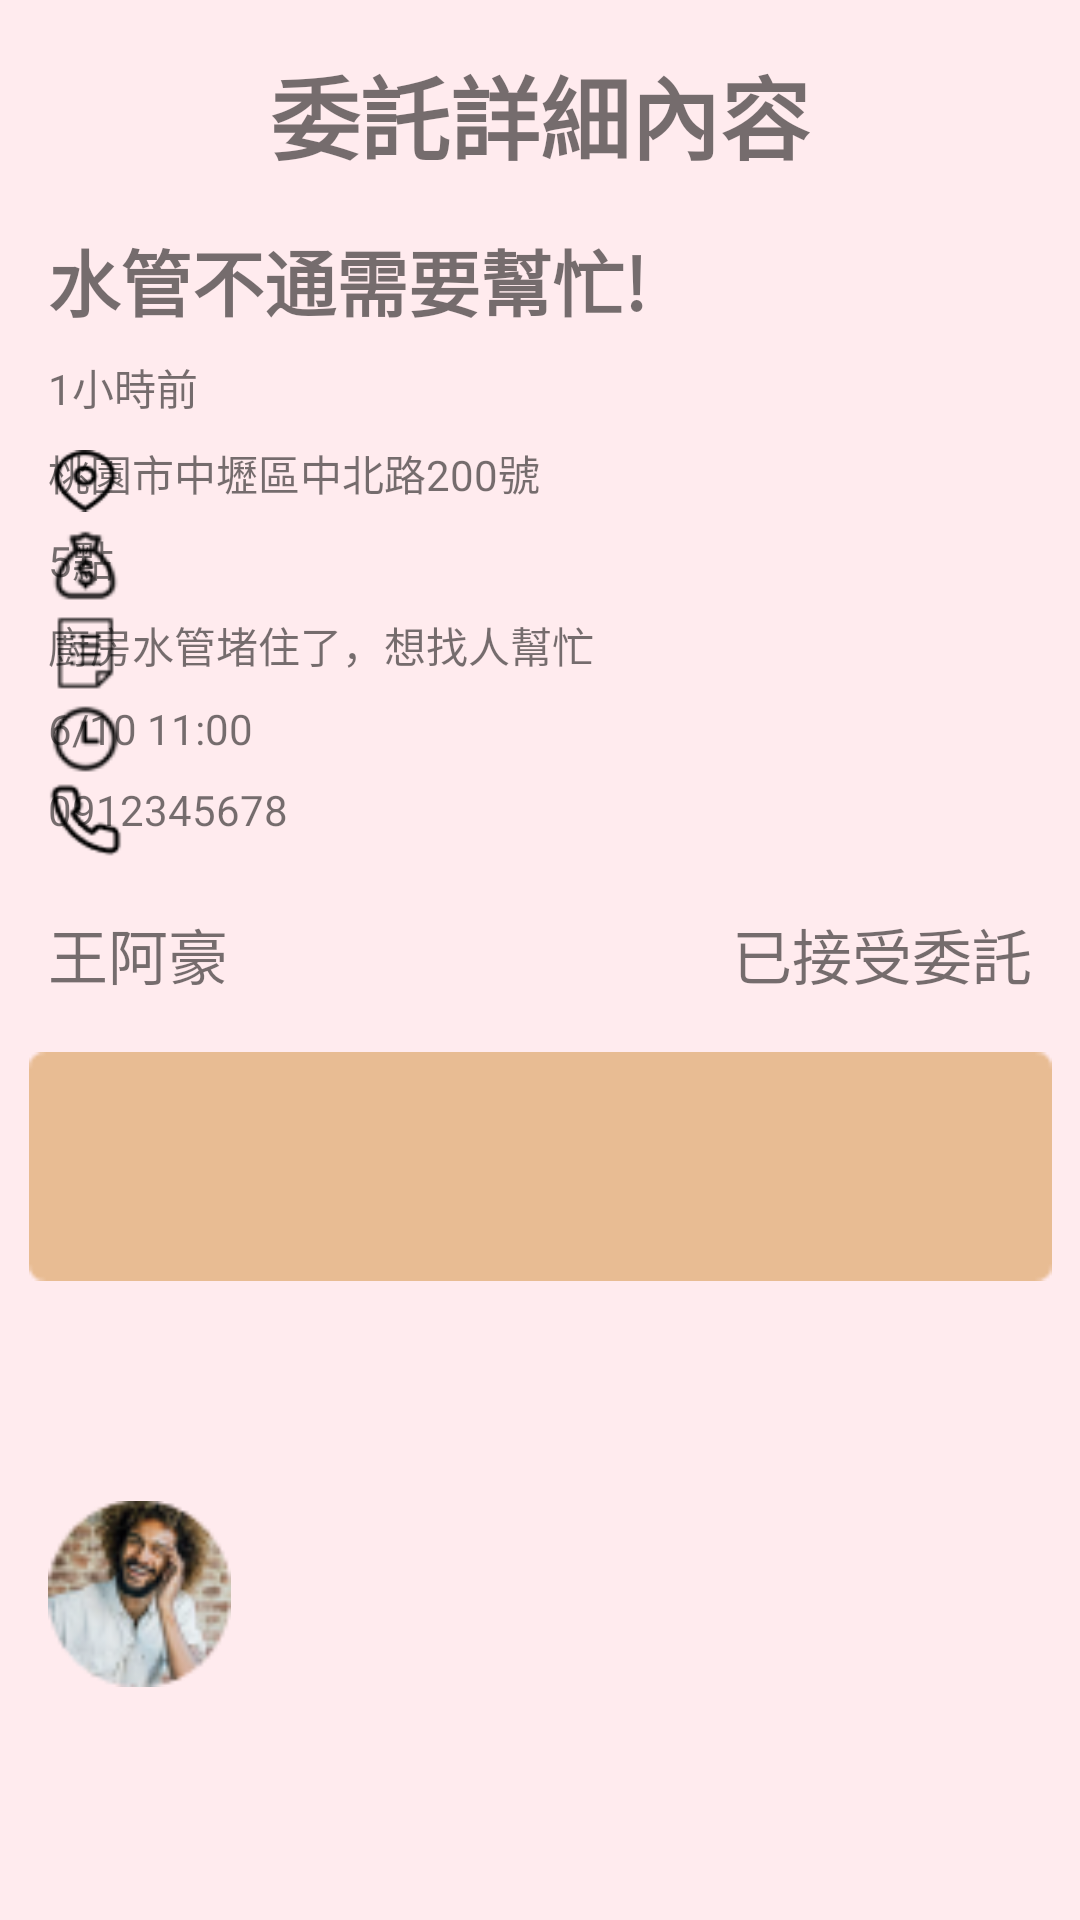

Icons on this 1080px x 1920px Android screen, each with the point to tap as (x,y):
clock: (86,739)
location: (86,481)
moneybag: (84,565)
phone: (85,820)
youngman: (139,1594)
